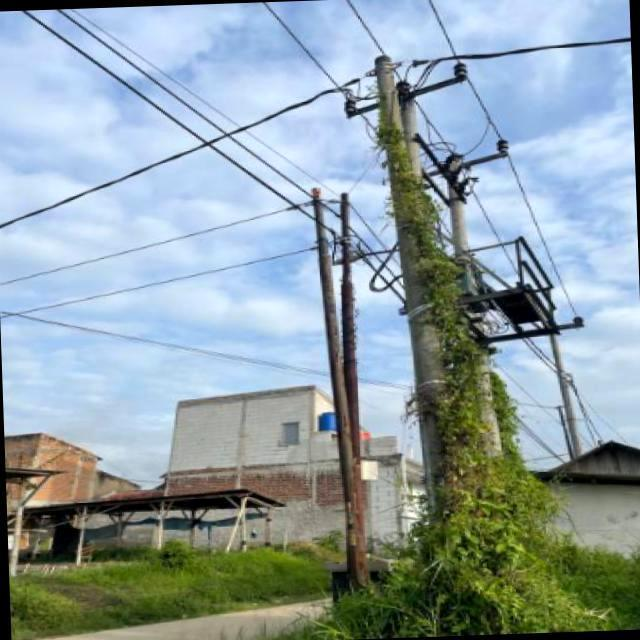critical vegetation: (359, 57, 524, 514)
